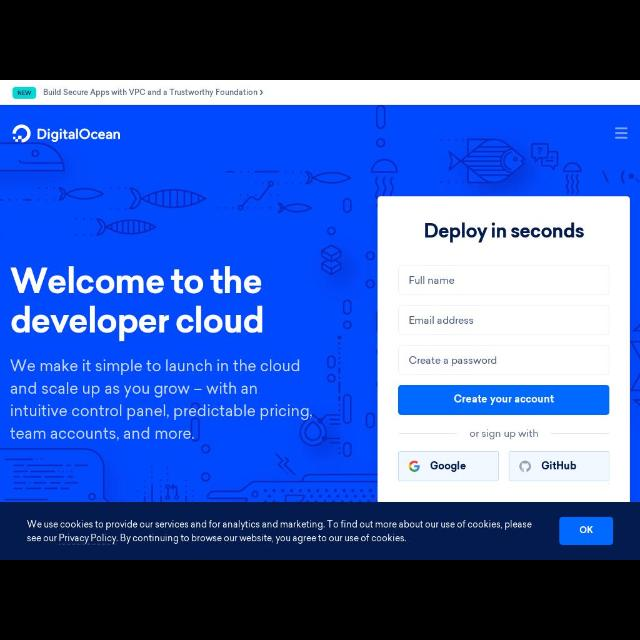icon: (616, 125, 628, 141), (258, 89, 264, 95)
image: (12, 125, 30, 144), (521, 460, 531, 472), (408, 460, 419, 470)
input: (401, 306, 607, 336), (398, 348, 610, 377), (399, 266, 611, 294)
text: (8, 358, 312, 440), (11, 265, 266, 335), (27, 518, 533, 542), (425, 224, 585, 240), (42, 87, 258, 97), (38, 128, 120, 142), (410, 355, 498, 367), (454, 394, 556, 404), (408, 316, 474, 326), (468, 430, 540, 438), (409, 274, 455, 286), (542, 459, 576, 471), (430, 461, 466, 471), (580, 525, 594, 535), (18, 90, 32, 96)
textbutton: (398, 384, 610, 414), (399, 450, 499, 480), (509, 452, 609, 481), (560, 516, 612, 544), (14, 86, 36, 100)
